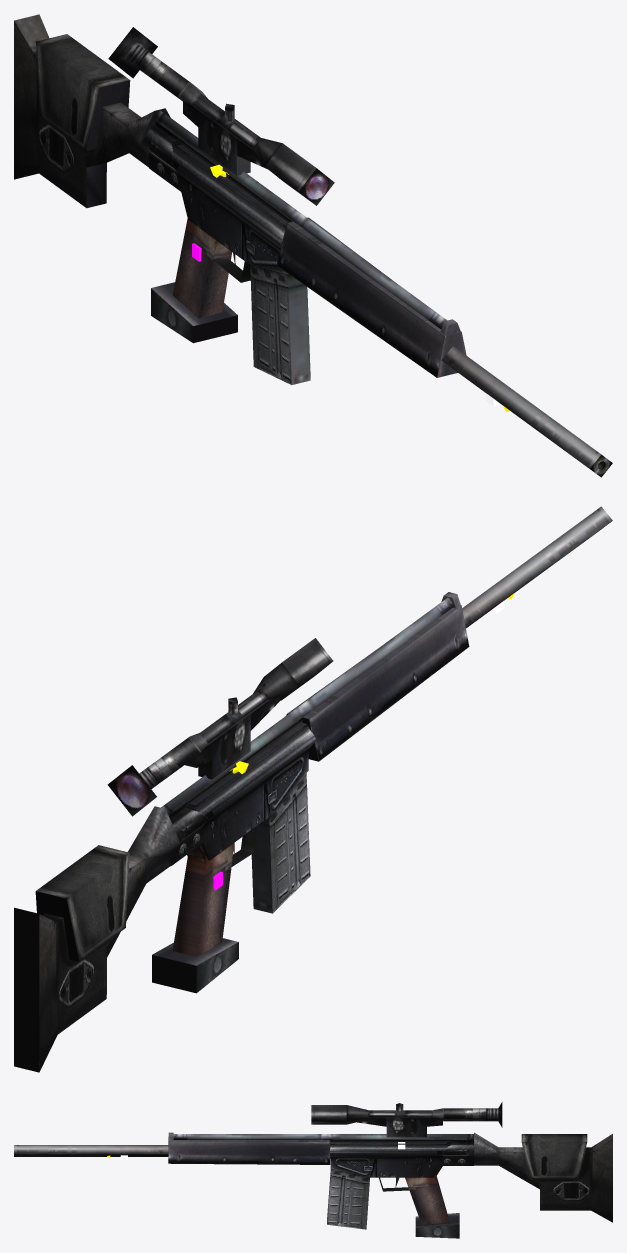
Rendered from PSG1_3rd.glb.
3 views of the same model, one above another, from view 1: azimuth 30°, elevation 25°; view 2: azimuth 150°, elevation 25°; view 3: azimuth 270°, elevation 25° (orthographic). The views are drawn at different scales.
Parts seen in each view (by area): view 1: 01 Mesh0, 01 Mesh0.002; view 2: 01 Mesh0, 01 Mesh0.002; view 3: 01 Mesh0, 01 Mesh0.002.
Boxes of the visible parts, x1=… form: 01 Mesh0: x1=14, y1=14, x2=612, y2=477; 01 Mesh0.002: x1=153, y1=110, x2=400, y2=317; 01 Mesh0: x1=14, y1=506, x2=612, y2=1072; 01 Mesh0.002: x1=162, y1=597, x2=453, y2=956; 01 Mesh0: x1=14, y1=1102, x2=612, y2=1238; 01 Mesh0.002: x1=173, y1=1134, x2=473, y2=1224.
Size of the model in its own units: 0.0605 by 0.2936 by 1.21.
Materials: 4 (1 with a texture image).
